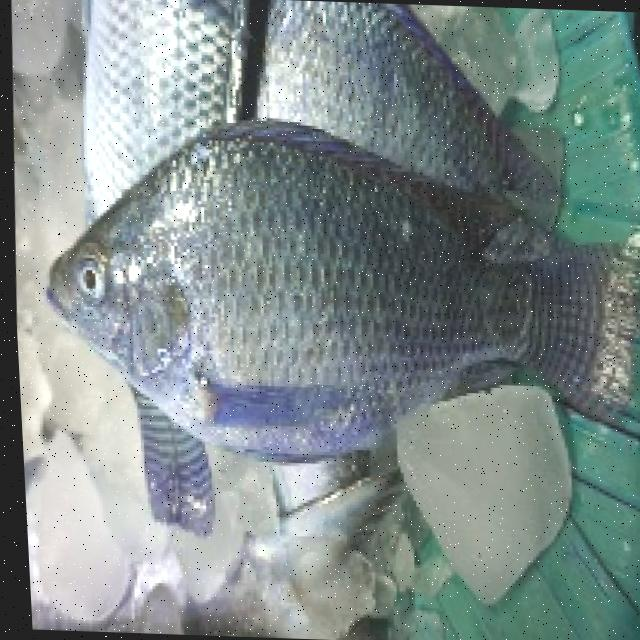Fresh: (17, 103, 516, 473)
